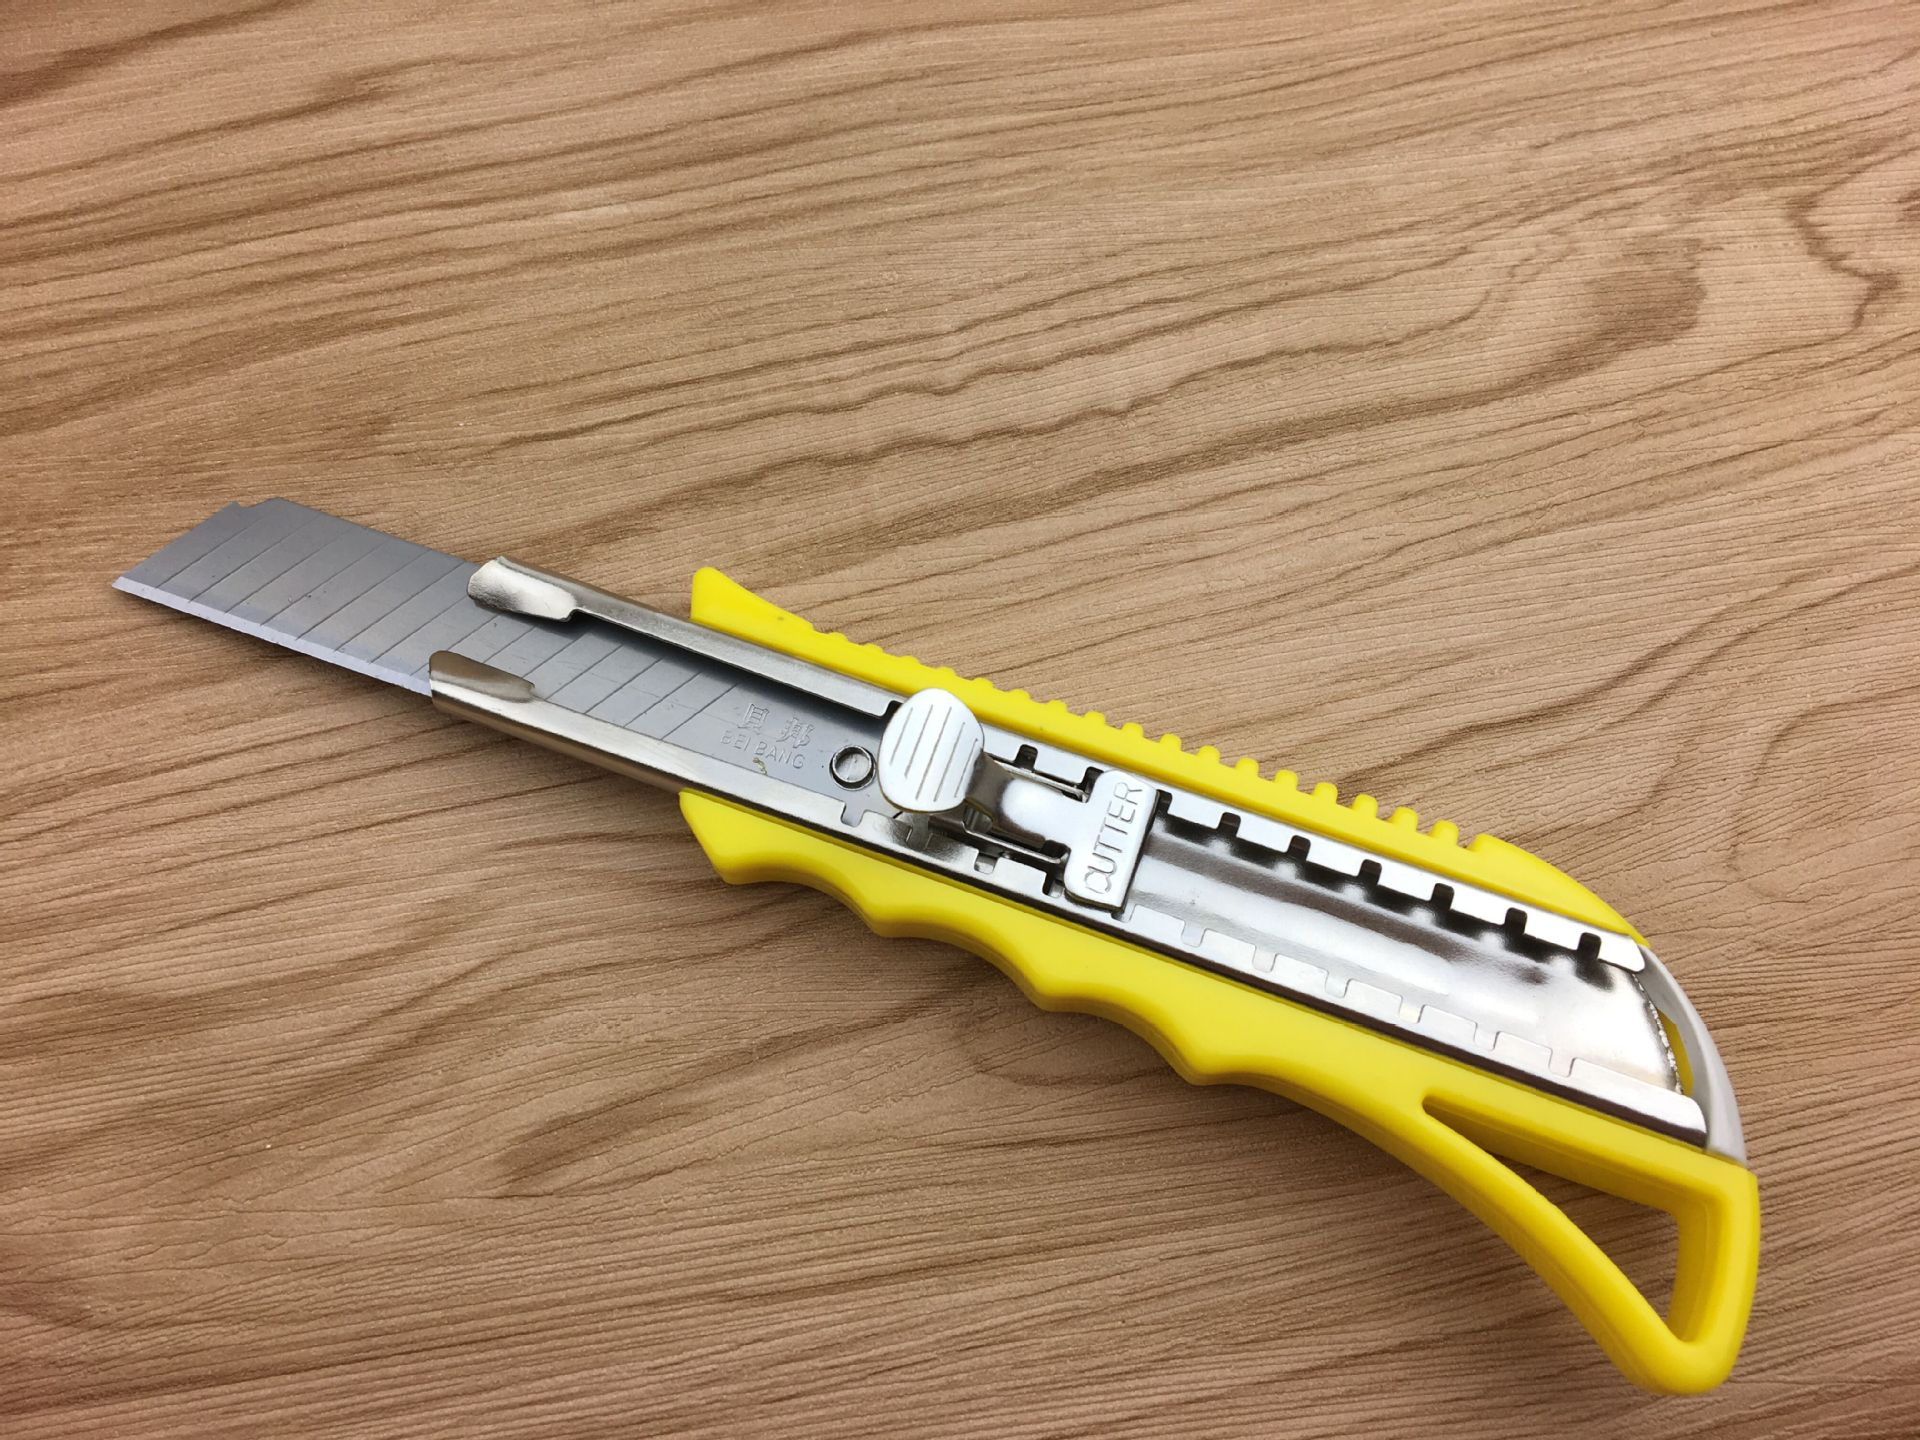cutter: (104, 492, 1769, 1398)
